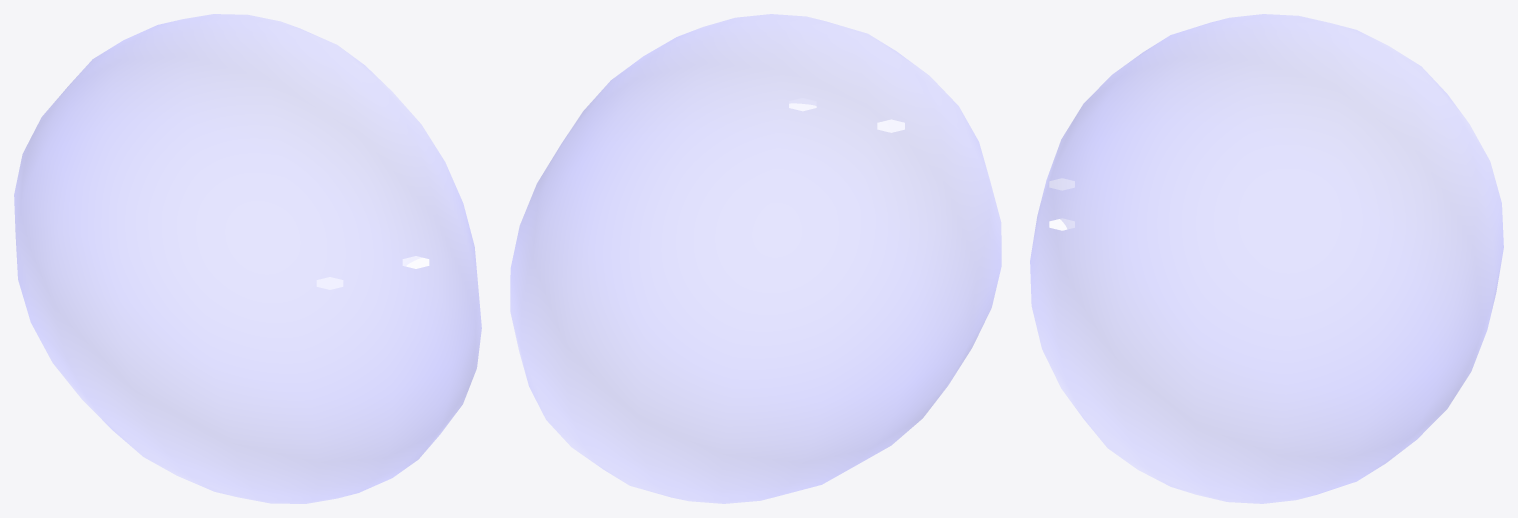
File: phantom.glb
3 views of the same model, side by side, from view 1: azimuth 30°, elevation 25°; view 2: azimuth 150°, elevation 25°; view 3: azimuth 270°, elevation 25° (orthographic). The views are drawn at different scales.
Size of the model in its own units: 0.7597 by 0.8 by 0.7983.
